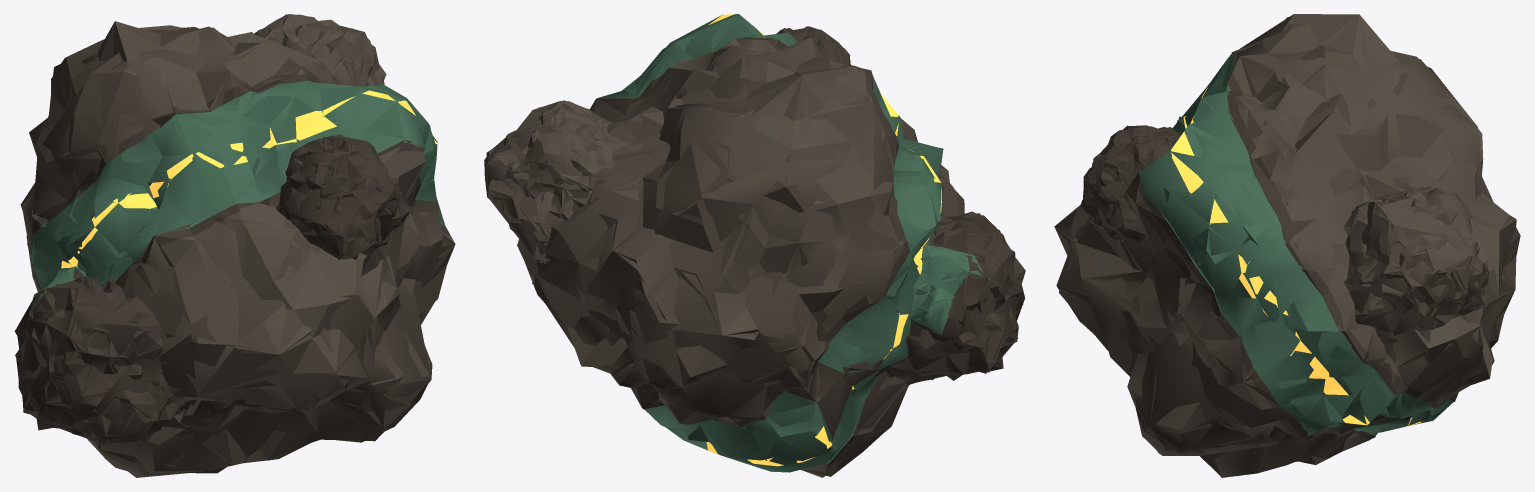
Rendered from place_asteroid_seamed.glb.
3 views of the same model, side by side, from view 1: azimuth 30°, elevation 25°; view 2: azimuth 150°, elevation 25°; view 3: azimuth 270°, elevation 25° (orthographic). The views are drawn at different scales.
Visible parts, largest first — view 1: LOD2_Stone, LOD0_Stone, LOD1_Stone, LOD0_Stone_deep, LOD2_Stone_vein, LOD2_Stone_deep, LOD1_Stone_deep, LOD1_Stone_vein, LOD0_Stone_vein, LOD0_Lights_Warm, LOD0_Stone_strata, LOD2_Stone_strata (+1 smaller); view 2: LOD2_Stone, LOD0_Stone, LOD1_Stone, LOD2_Stone_vein, LOD1_Stone_vein, LOD0_Stone_deep, LOD2_Stone_deep, LOD0_Stone_vein, LOD2_Stone_strata, LOD1_Stone_deep, LOD1_Stone_strata, LOD0_Lights_Warm (+1 smaller); view 3: LOD2_Stone, LOD1_Stone, LOD0_Stone, LOD2_Stone_vein, LOD1_Stone_vein, LOD0_Stone_deep, LOD0_Stone_vein, LOD2_Stone_deep, LOD1_Stone_deep, LOD0_Lights_Warm, LOD2_Stone_strata, LOD0_Stone_strata (+1 smaller).
Part boxes in pixels (x1,y1,x2,y2): LOD2_Stone: (22, 14, 455, 477); LOD0_Stone: (25, 14, 454, 475); LOD1_Stone: (20, 14, 454, 475); LOD0_Stone_deep: (15, 74, 450, 444); LOD2_Stone_vein: (29, 82, 445, 318); LOD2_Stone_deep: (16, 66, 447, 444); LOD1_Stone_deep: (15, 67, 427, 445); LOD1_Stone_vein: (30, 80, 442, 309); LOD0_Stone_vein: (31, 80, 443, 299); LOD0_Lights_Warm: (61, 90, 437, 268); LOD0_Stone_strata: (40, 289, 432, 415); LOD2_Stone_strata: (180, 379, 430, 426); LOD2_Stone: (486, 37, 964, 477); LOD0_Stone: (484, 37, 964, 475); LOD1_Stone: (484, 39, 950, 476); LOD2_Stone_vein: (599, 15, 989, 471); LOD1_Stone_vein: (622, 14, 983, 472); LOD0_Stone_deep: (592, 26, 1025, 463); LOD2_Stone_deep: (598, 28, 1024, 430); LOD0_Stone_vein: (532, 14, 969, 472); LOD2_Stone_strata: (610, 360, 885, 439); LOD1_Stone_deep: (597, 26, 1025, 462); LOD1_Stone_strata: (582, 335, 908, 413); LOD0_Lights_Warm: (706, 14, 941, 466); LOD2_Stone: (1054, 14, 1516, 477); LOD1_Stone: (1054, 15, 1520, 477); LOD0_Stone: (1056, 17, 1520, 476); LOD2_Stone_vein: (1138, 57, 1453, 435); LOD1_Stone_vein: (1167, 53, 1451, 436); LOD0_Stone_deep: (1081, 49, 1458, 439); LOD0_Stone_vein: (1139, 55, 1424, 434); LOD2_Stone_deep: (1083, 57, 1397, 456); LOD1_Stone_deep: (1081, 89, 1397, 439); LOD0_Lights_Warm: (1171, 87, 1421, 426); LOD2_Stone_strata: (1135, 341, 1497, 452); LOD0_Stone_strata: (1135, 337, 1498, 447).
Size of what is drawn, in the model's own units: 20.3 by 19.25 by 19.2.
